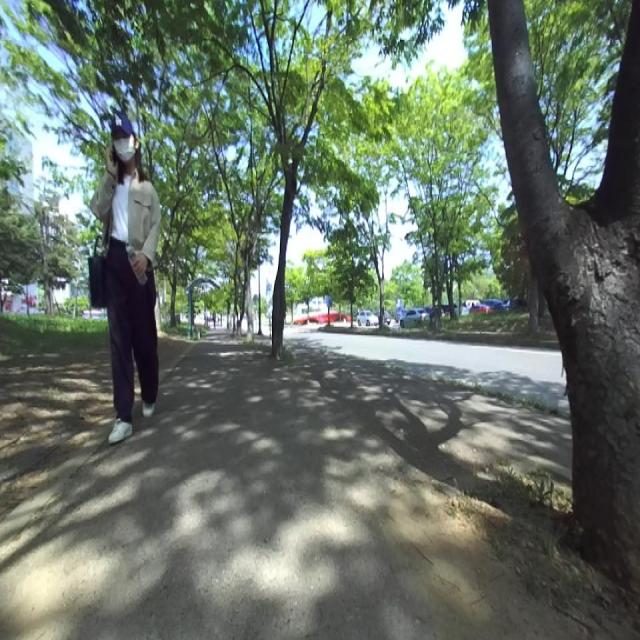sidewalk: (0, 330, 608, 640)
